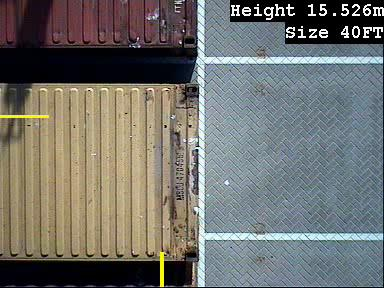groundmarker_2: (201, 173, 236, 225), (201, 29, 235, 82)
